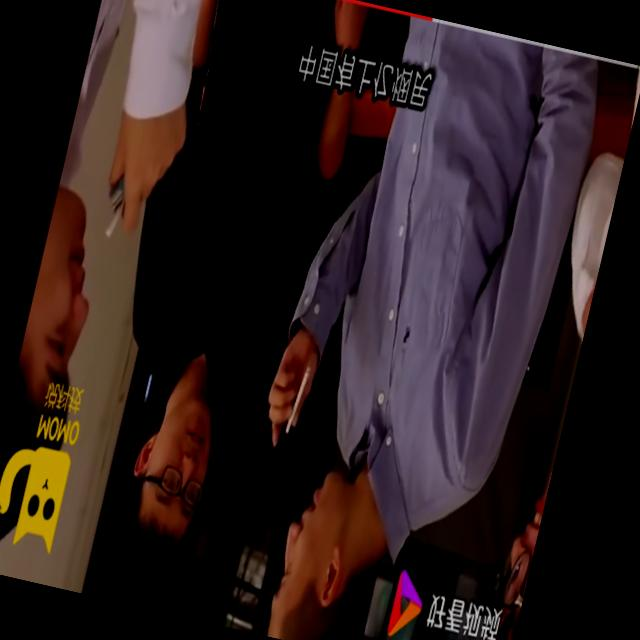cigarette: (282, 358, 324, 438)
